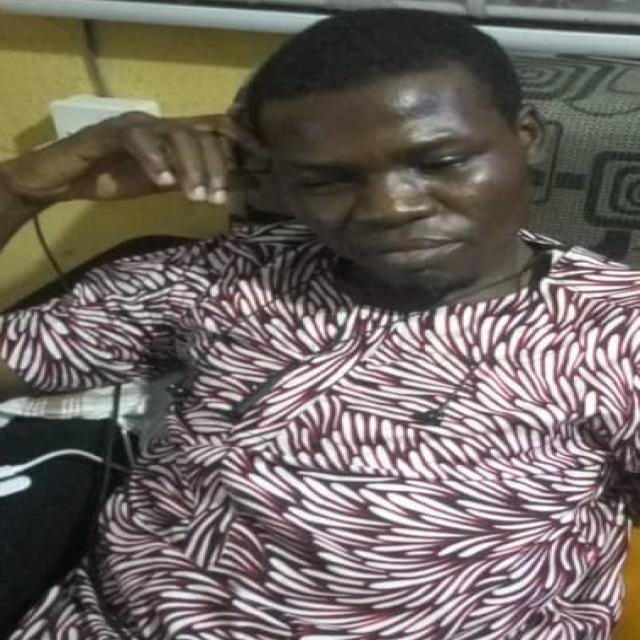sad: (220, 36, 556, 297)
